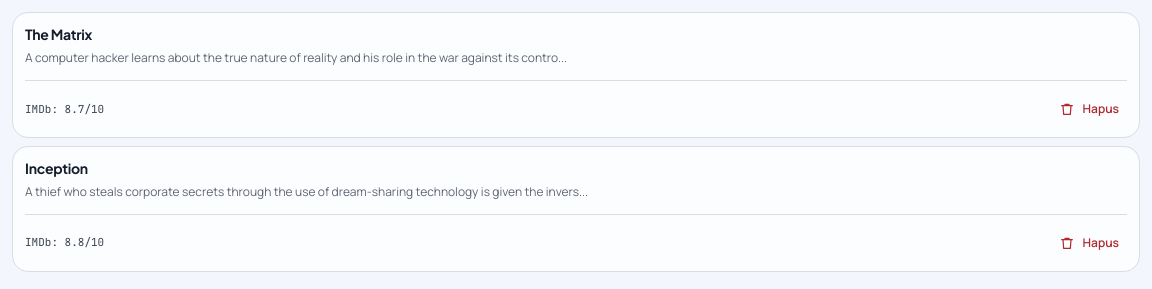
Test case: Sidebar Component › cancels delete when cancel button is clicked
Note: Click delete button
Click the 1st button "Hapus" at (1089,109), box [1050,93,1127,125]
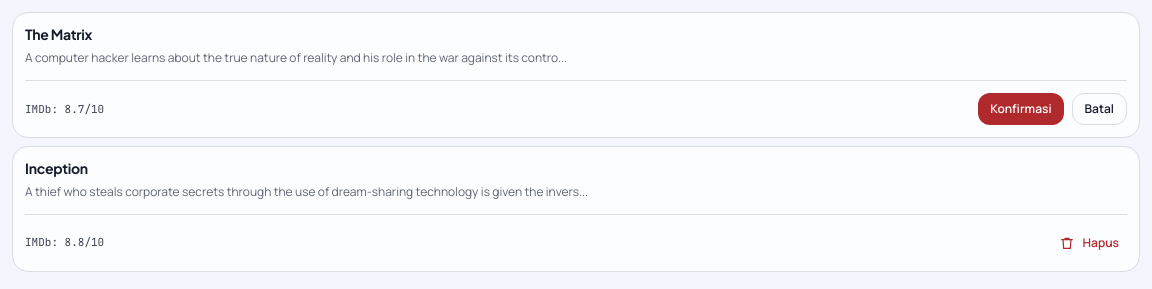
Note: Click cancel button
Click the button "Batal" at (1099,109), box [1072,93,1127,125]
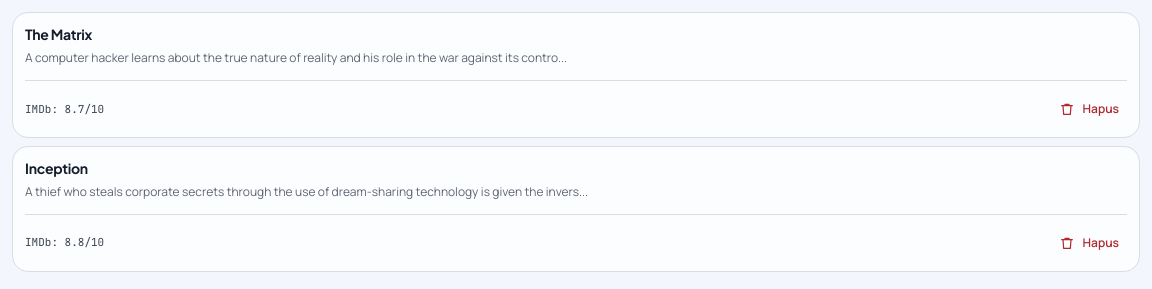
Expected: the button "Konfirmasi" is gone
